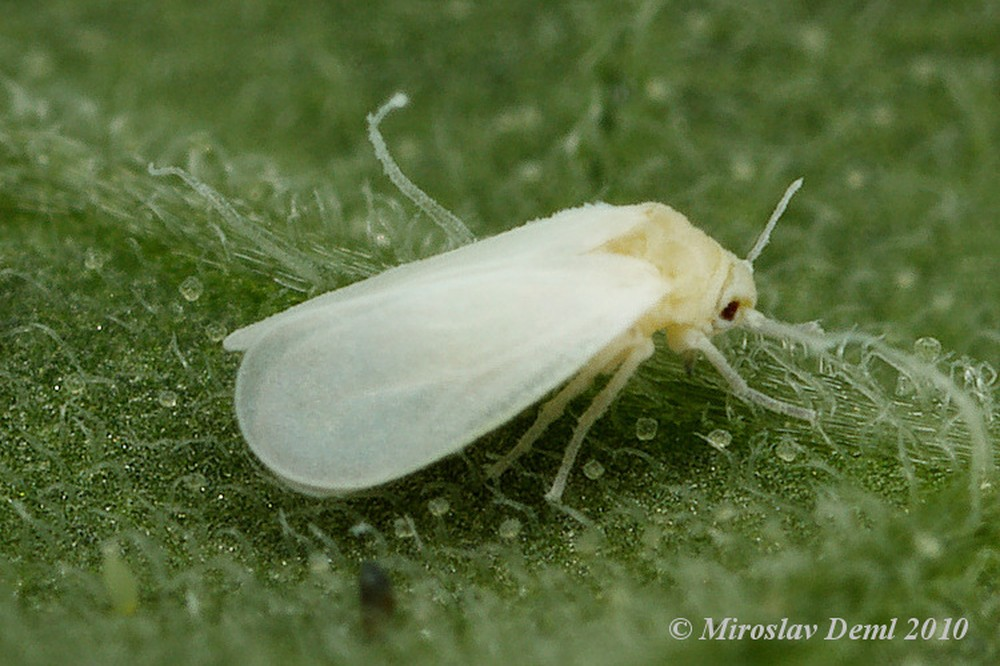Mosca Blanca: (219, 175, 846, 518)
